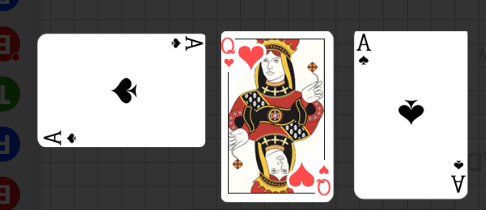AS: (42, 128, 79, 145), (357, 33, 374, 68), (168, 36, 203, 53)
